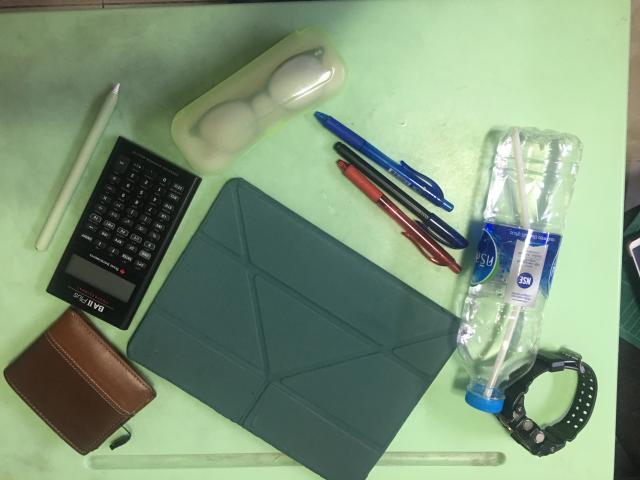Glasses: (171, 26, 346, 174)
Pen: (314, 113, 468, 278)
Wallet: (4, 308, 156, 455)
Watch: (495, 351, 598, 456)
bottle: (458, 128, 582, 412)
